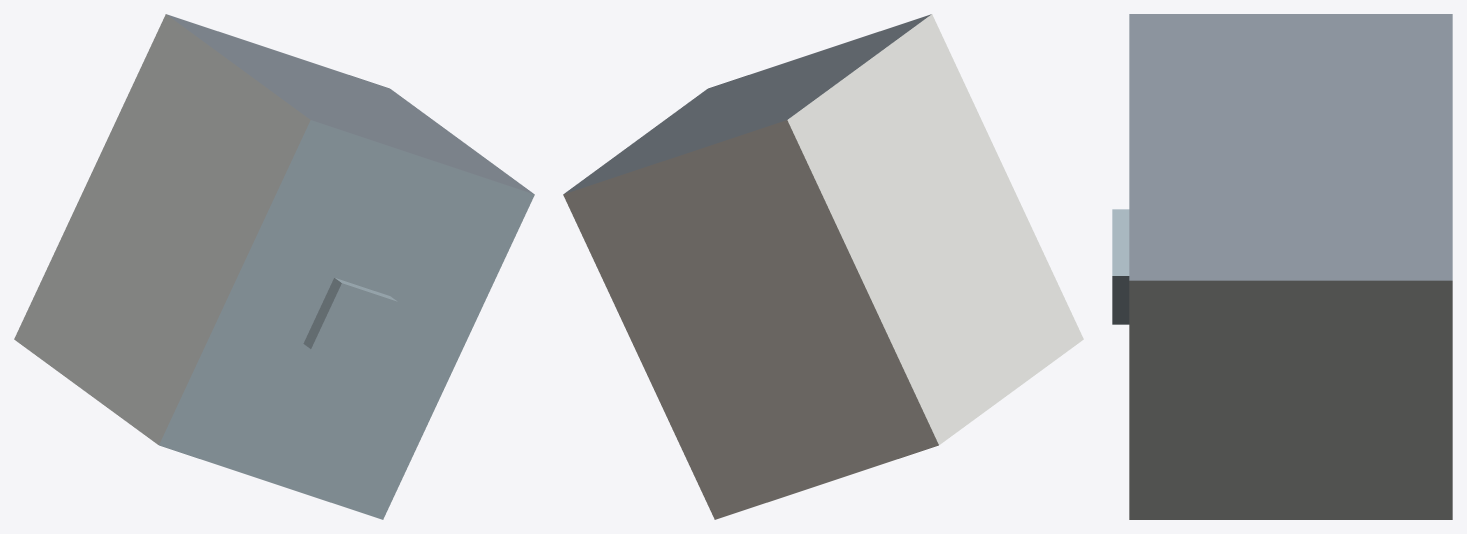
The model's file is doitt-147902__lod_1.glb.
3 views of the same model, side by side, from view 1: azimuth 30°, elevation 25°; view 2: azimuth 150°, elevation 25°; view 3: azimuth 270°, elevation 25° (orthographic). The views are drawn at different scales.
Size of the model in its own units: 34.21 by 36.31 by 24.02.
